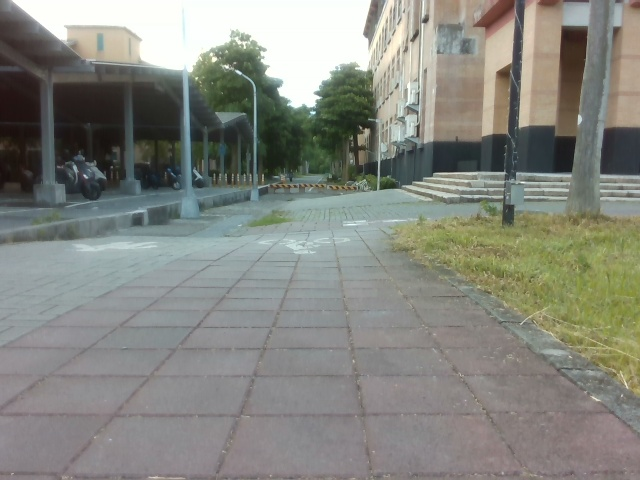grass: (388, 201, 639, 414), (152, 28, 375, 186), (565, 0, 610, 215)
road: (0, 191, 639, 479)
sidewalk: (0, 200, 234, 245)
